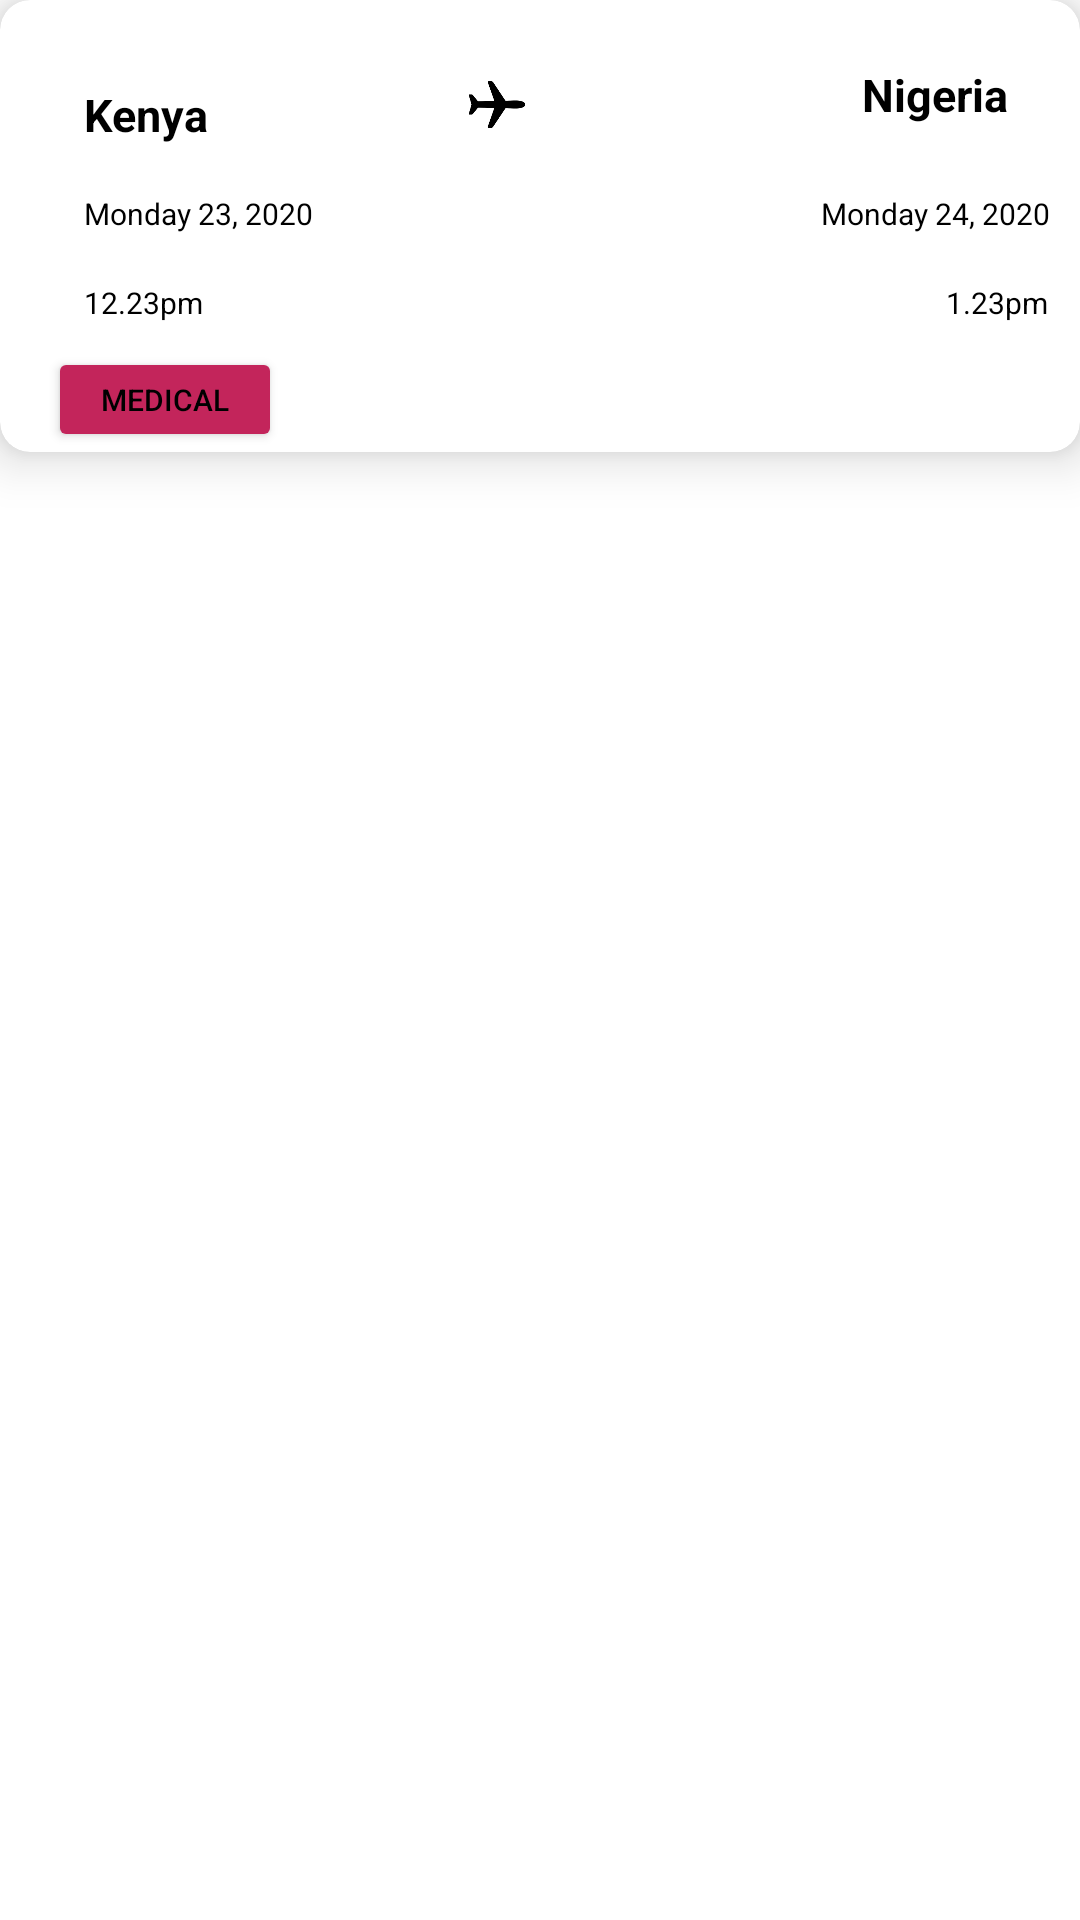

Screen size 1080x1920. Icon name, then its center in pixels as (x,y):
plane: (497,104)
